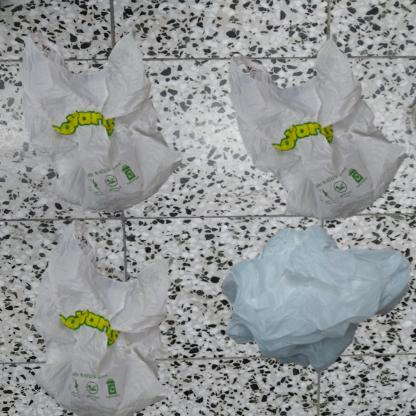bolsa: (213, 10, 416, 269), (10, 213, 217, 416), (10, 10, 198, 233), (213, 213, 416, 388)
